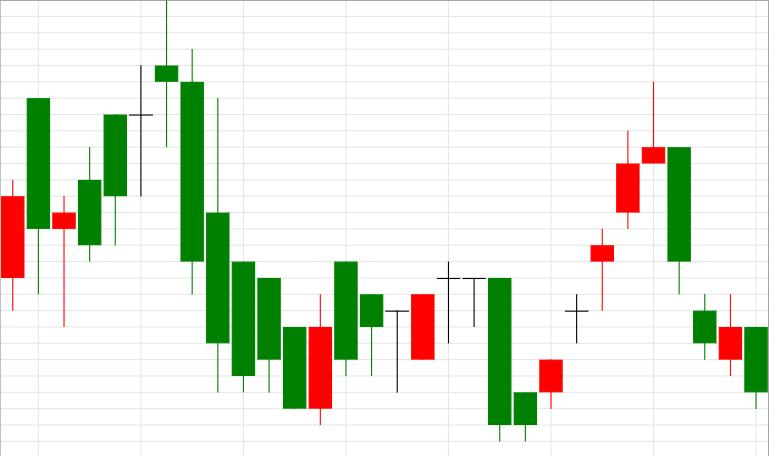bullish_engulfing_rise: (155, 1, 331, 425)
